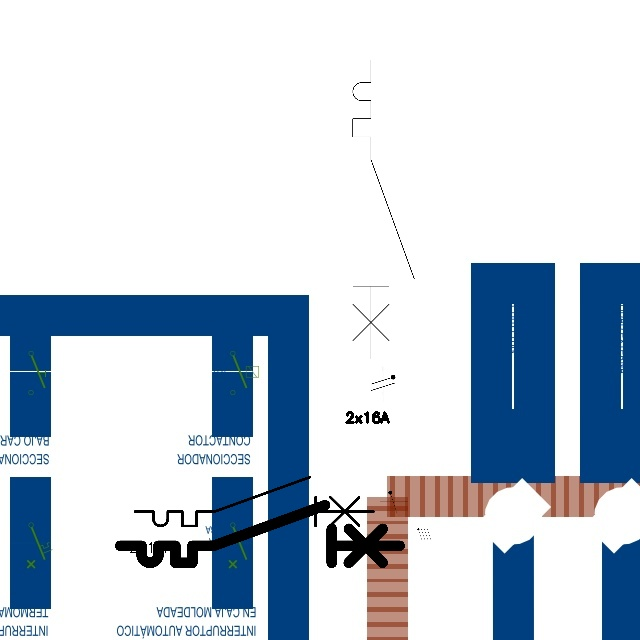interruptor_termomagnetico: (345, 52, 422, 367), (113, 498, 407, 570), (129, 471, 379, 532)
